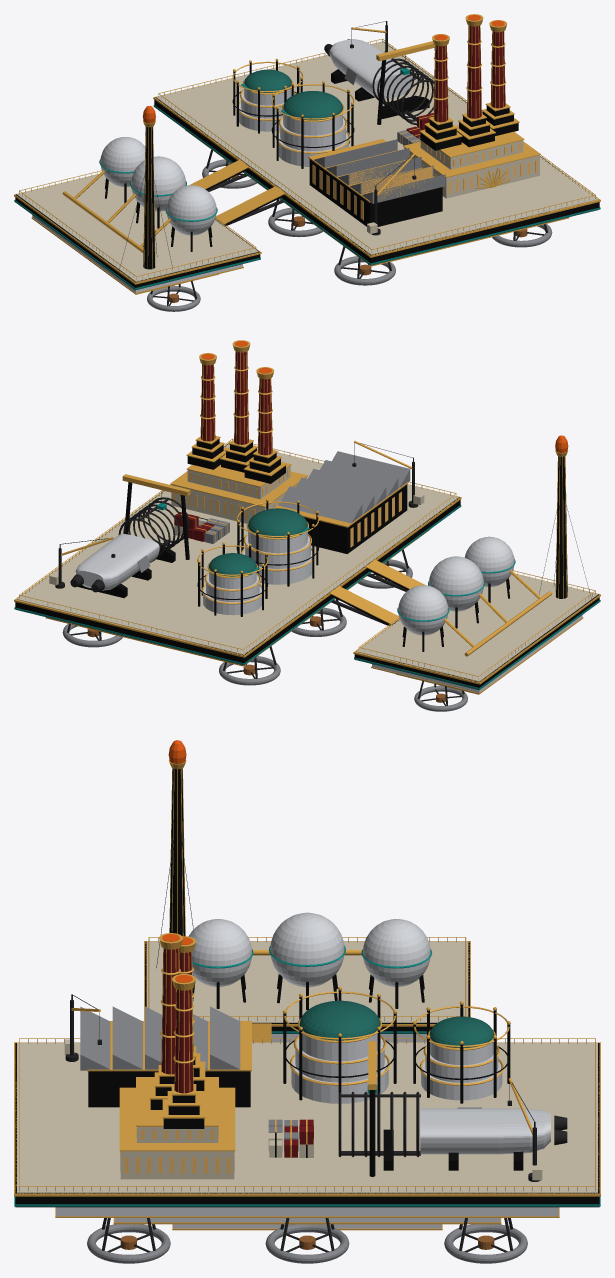
File: station_industrial.obj
3 views of the same model, one above another, from view 1: azimuth 30°, elevation 25°; view 2: azimuth 150°, elevation 25°; view 3: azimuth 270°, elevation 25° (orthographic). The views are drawn at different scales.
Visible parts, largest first — view 1: station_industrial; view 2: station_industrial; view 3: station_industrial.
Boxes of the visible parts, <box> form: station_industrial: <box>14,14,600,311</box>; station_industrial: <box>14,340,600,711</box>; station_industrial: <box>14,740,600,1263</box>.
Size of the model in its own units: 1400 by 711 by 1247.
Materials: 1 (1 with a texture image).
